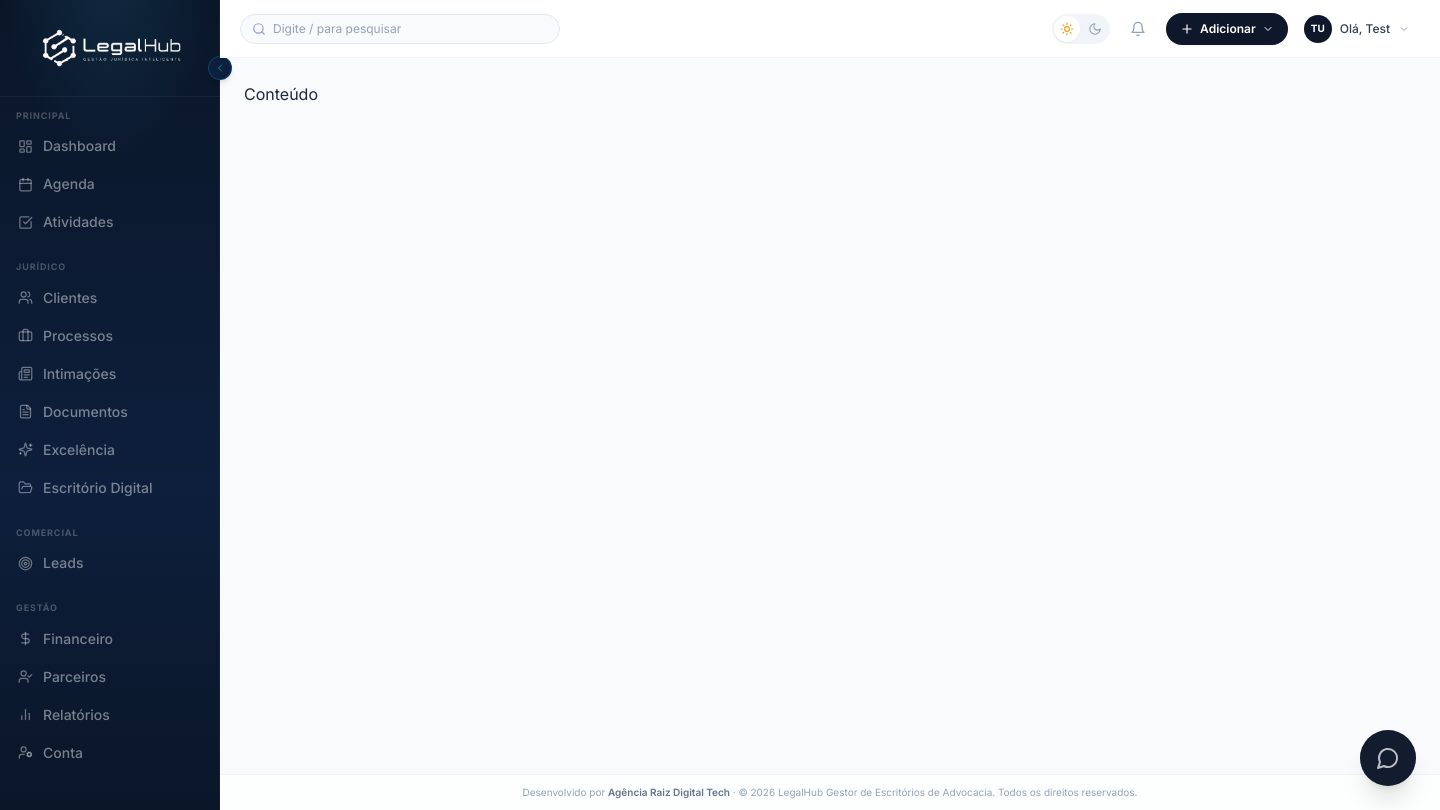
Layout — botão de notificações › abre o dropdown ao clicar no sino
The width and height of the screenshot is (1440, 810).
Click the button titled "Notificações". click: coordinates (1138, 28)
box: left=1122, top=12, right=1154, bottom=44
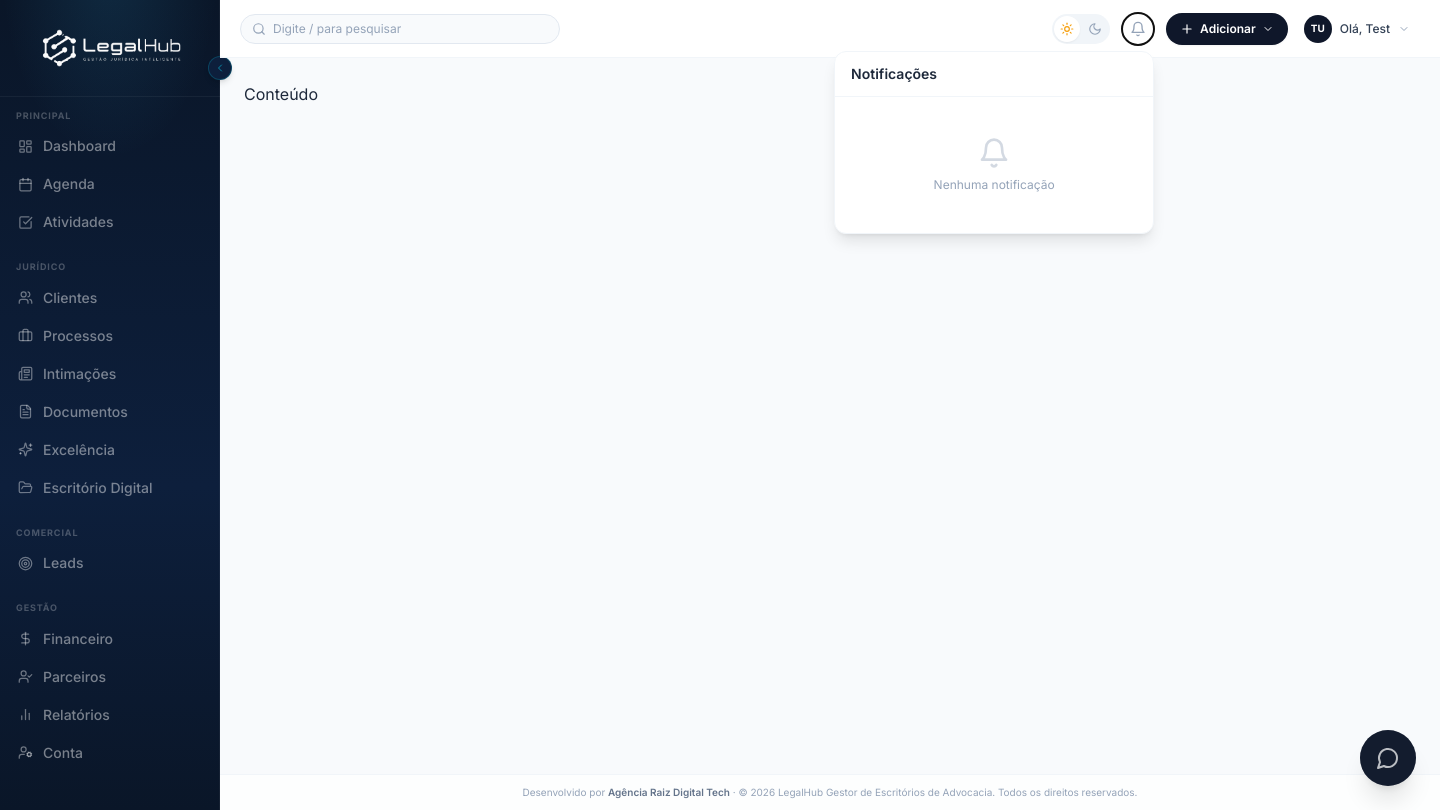
Expected: the text "Notificações" is shown, left=851, top=64, right=937, bottom=84
